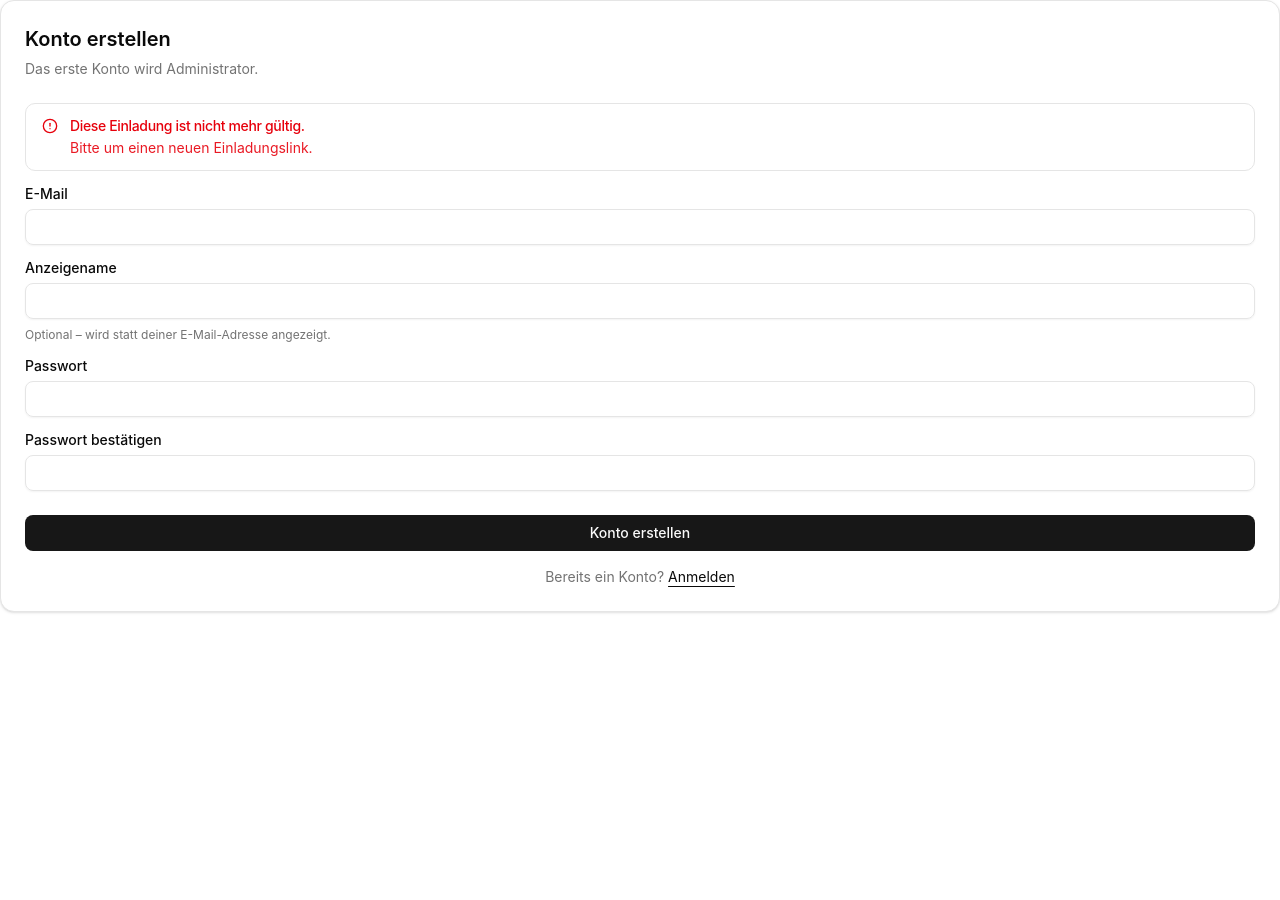
RegisterPage › explains invalid invitations and translates the server error
Expected: the message with test id "invitation-invalid" shows "Diese Einladung ist nicht mehr gültig.", [70, 117, 305, 134]
In the field with id "email": (640,227) [25, 209, 1255, 245], type "late@acme.test"
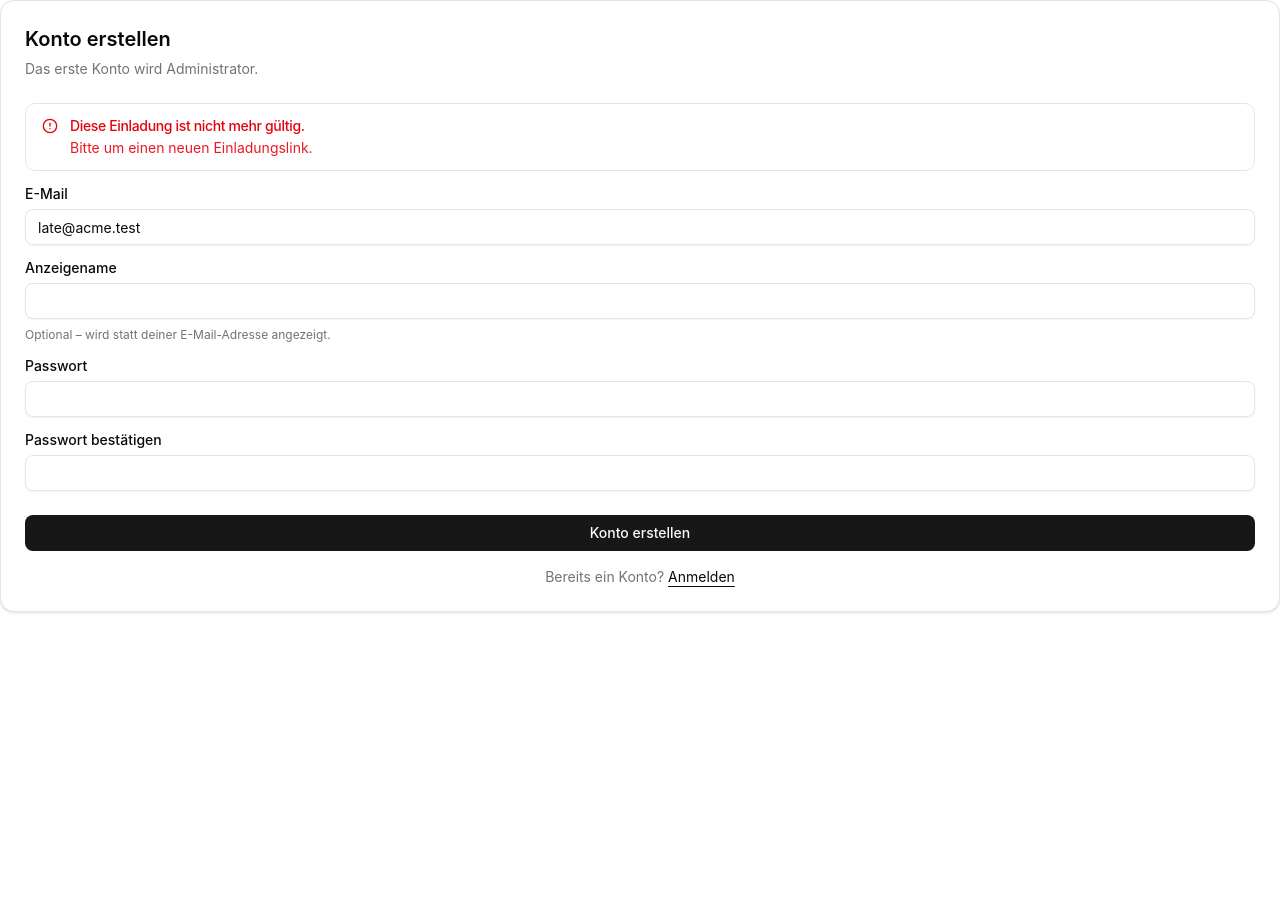
In the password field labelled "Passwort": (640,399) [25, 381, 1255, 417], type "correct horse battery"
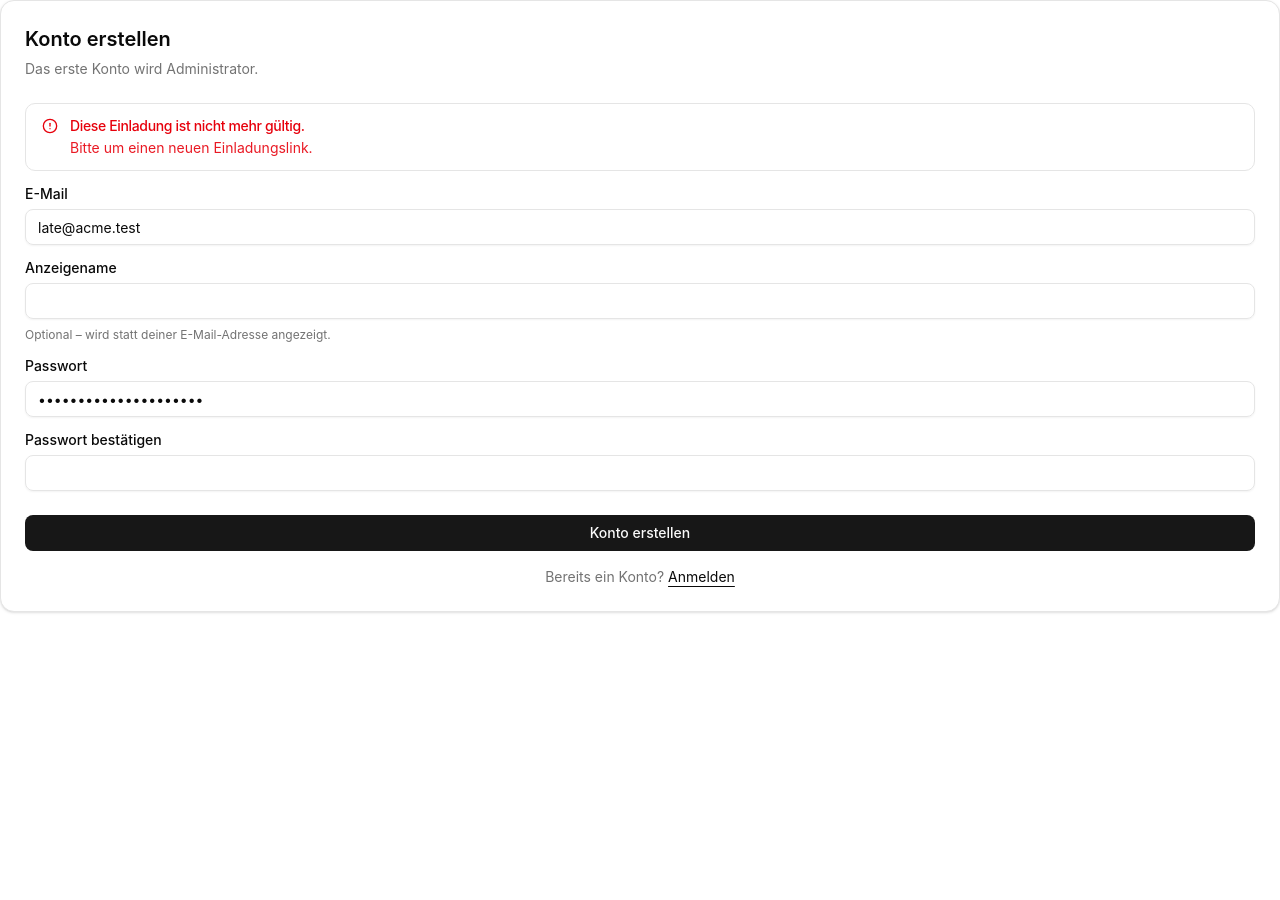
In the password field with id "confirm-password": (640,473) [25, 455, 1255, 491], type "correct horse battery"
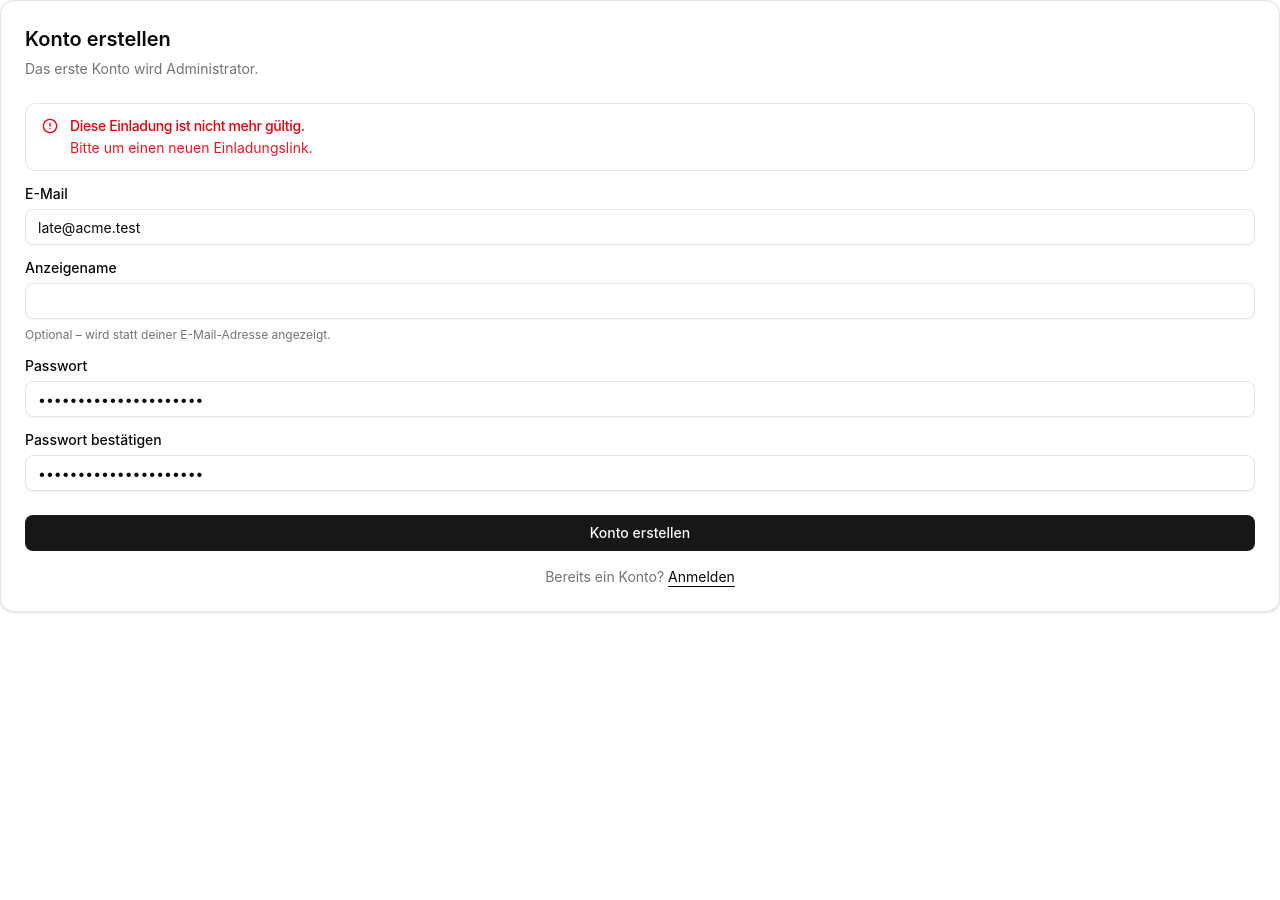
Submit the form, box [1, 103, 1279, 587]
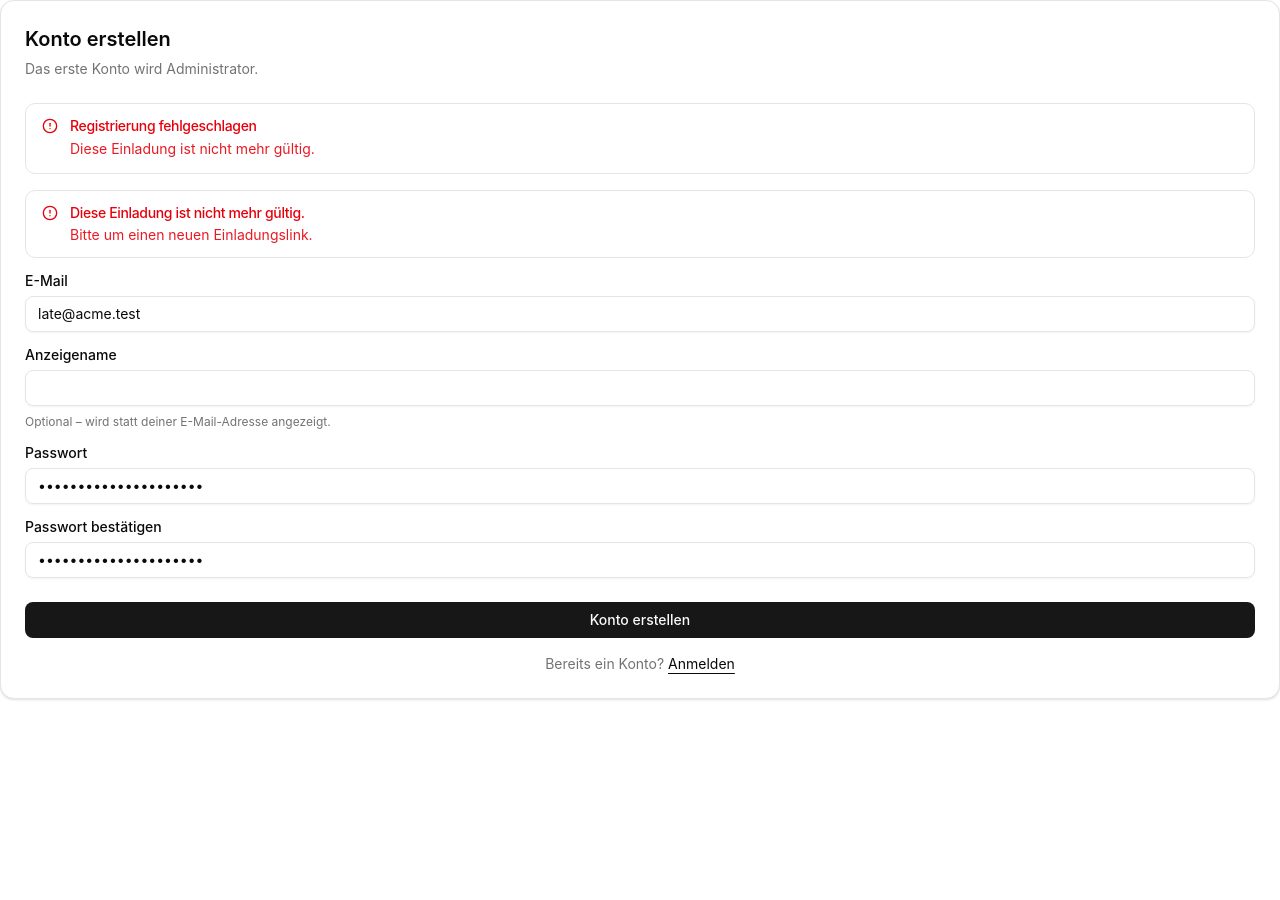
Result: the message with test id "register-error" shows "Diese Einladung ist nicht mehr gültig." at [70, 140, 315, 157]
